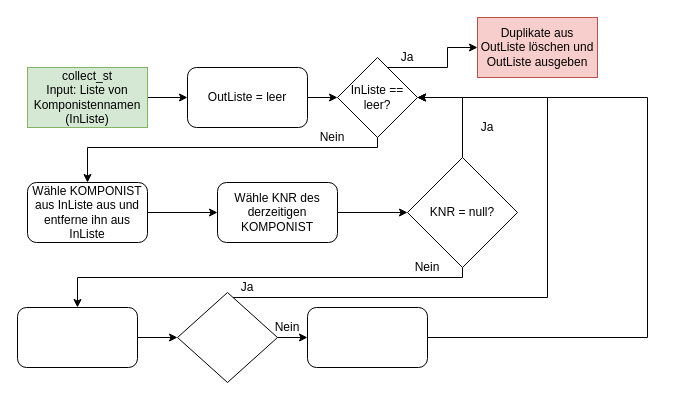
Image size: 673x400. Some labels were removed from this diagram. Here are the shapes that lost their labels. From the top down, the box of each, then its label:
(16, 306, 138, 368): Wähle SNR und TITEL mittels KNR aus Datenbank
(176, 292, 278, 382): SNR == null?
(306, 306, 428, 368): Füge Tupel (KOMPONIST, TITEL) in OutListe ein
